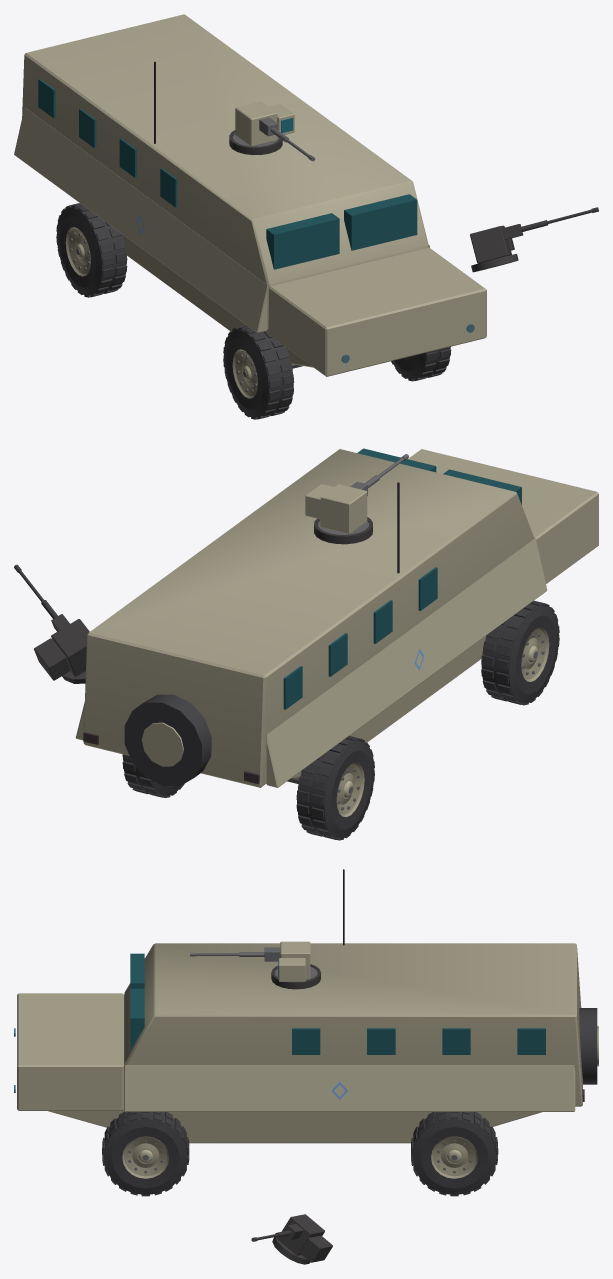
File: bushmaster__bushmaster.glb
3 renders of one model, top to bottom at view 1: azimuth 30°, elevation 25°; view 2: azimuth 150°, elevation 25°; view 3: azimuth 270°, elevation 25°, orthographic. The views are drawn at different scales.
Parts seen in each view (by area): view 1: Hull_Mesh, Wheel_L1_Mesh, Wheel_L0_Mesh, Wreck, Turret_Mesh, Wheel_R1_Mesh; view 2: Hull_Mesh, Wheel_L1_Mesh, Wheel_L0_Mesh, Wreck, Turret_Mesh, Wheel_R0_Mesh; view 3: Hull_Mesh, Wheel_R1_Mesh, Wheel_R0_Mesh, Wreck, Turret_Mesh, Gun_Mesh.
Boxes of the visible parts, <box> form: Hull_Mesh: <box>14,14,486,376</box>; Wheel_L1_Mesh: <box>223,325,294,419</box>; Wheel_L0_Mesh: <box>56,203,127,297</box>; Wreck: <box>84,130,598,411</box>; Turret_Mesh: <box>232,101,294,146</box>; Wheel_R1_Mesh: <box>391,346,451,381</box>; Hull_Mesh: <box>75,448,598,787</box>; Wheel_L1_Mesh: <box>481,600,559,705</box>; Wheel_L0_Mesh: <box>296,736,374,840</box>; Wreck: <box>14,517,551,838</box>; Turret_Mesh: <box>305,484,369,534</box>; Wheel_R0_Mesh: <box>122,754,184,797</box>; Hull_Mesh: <box>14,869,598,1143</box>; Wheel_R1_Mesh: <box>102,1111,189,1196</box>; Wheel_R0_Mesh: <box>411,1112,498,1196</box>; Wreck: <box>176,964,485,1264</box>; Turret_Mesh: <box>274,941,317,981</box>; Gun_Mesh: <box>190,947,280,961</box>.
Size of what is drawn, in the model's own units: 5.57 by 3.51 by 7.39.
